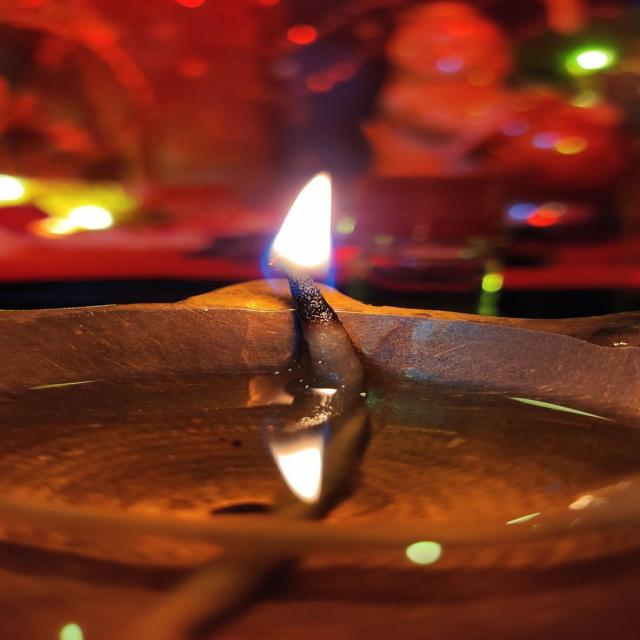fire: (259, 171, 335, 304)
